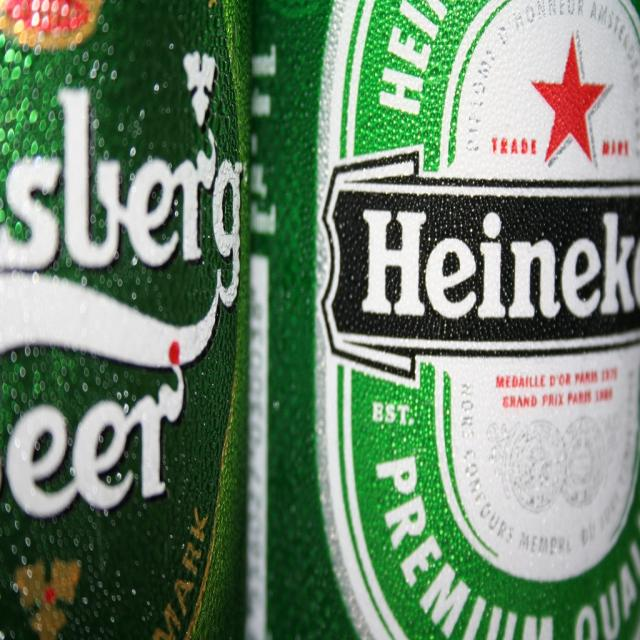heineken: (314, 2, 640, 640)
